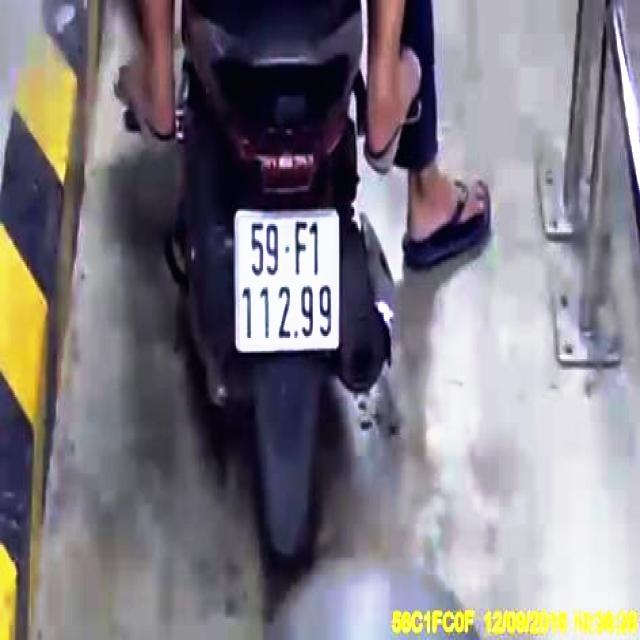license_plate: (236, 214, 342, 351)
